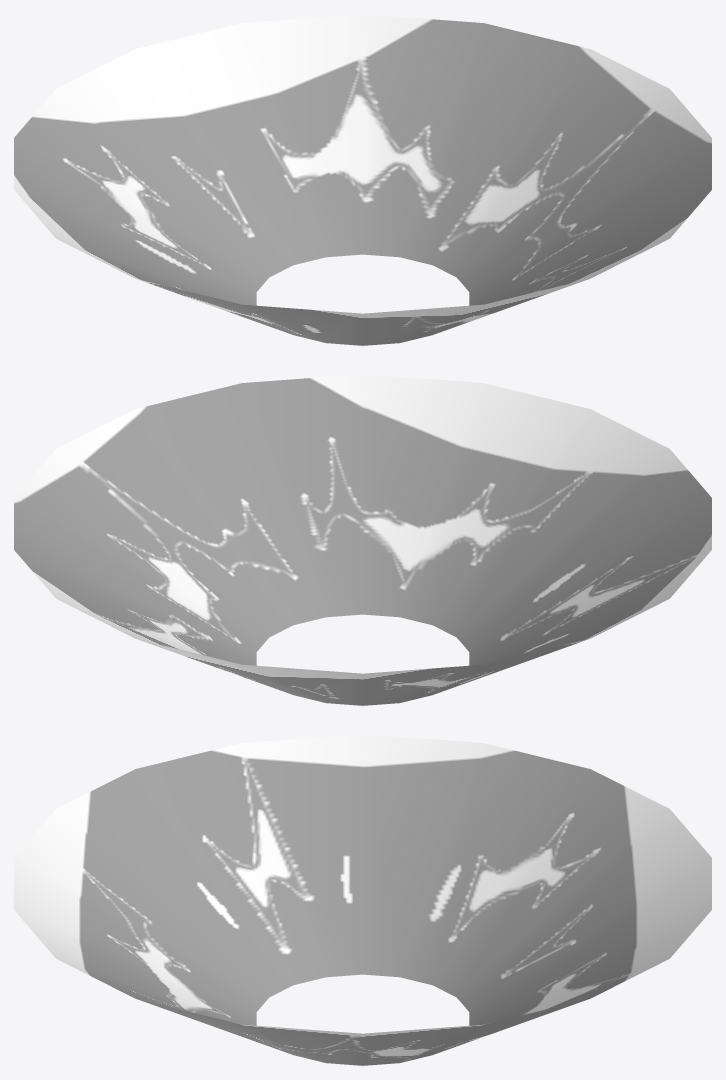
File: eff_cylinder_s_04.FBX
3 renders of one model, top to bottom at view 1: azimuth 30°, elevation 25°; view 2: azimuth 150°, elevation 25°; view 3: azimuth 270°, elevation 25°, orthographic.
Parts seen in each view (by area): view 1: eff_cylinder_s_04; view 2: eff_cylinder_s_04; view 3: eff_cylinder_s_04.
Part boxes in pixels (left/top/right/bottom): eff_cylinder_s_04: left=14, top=14, right=711, bottom=345; eff_cylinder_s_04: left=14, top=374, right=711, bottom=705; eff_cylinder_s_04: left=14, top=734, right=711, bottom=1065.
Size of the model in its own units: 9.56 by 2.03 by 9.42.
